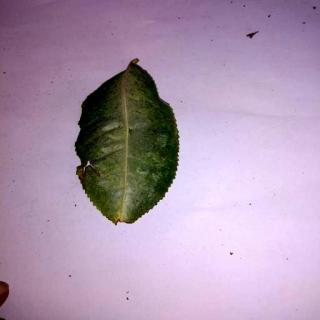Anthracnose: (77, 57, 181, 227)
